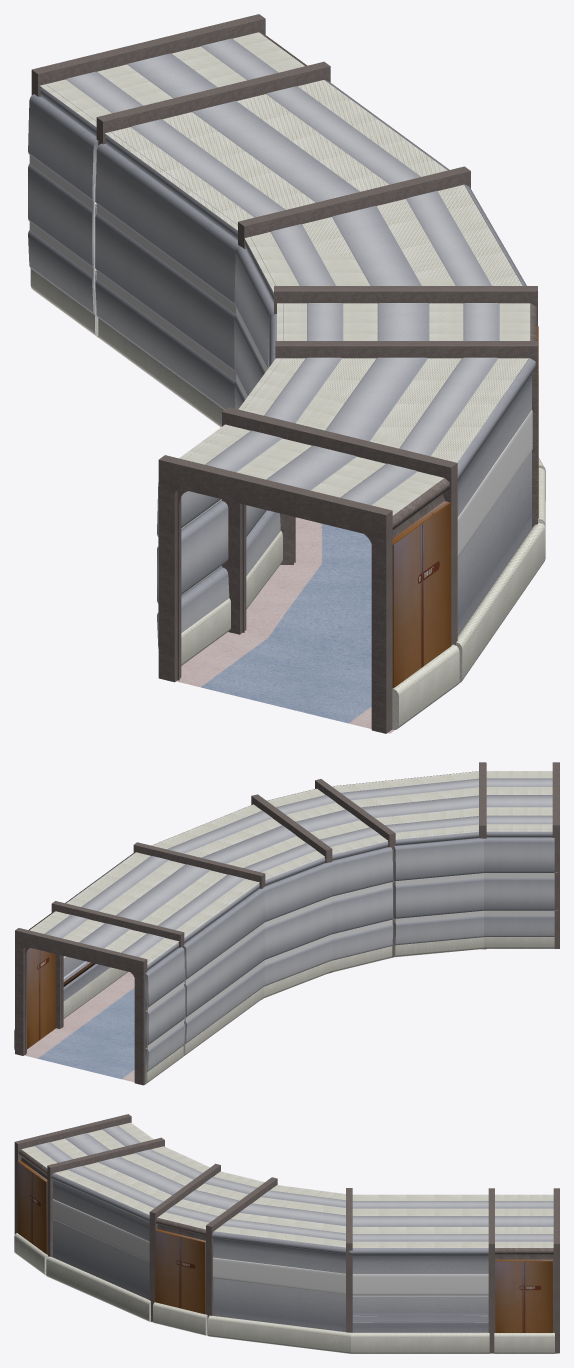
File: Corridor 1.FBX
3 views of the same model, one above another, from view 1: azimuth 30°, elevation 25°; view 2: azimuth 150°, elevation 25°; view 3: azimuth 270°, elevation 25° (orthographic). The views are drawn at different scales.
Visible parts, largest first — view 1: Box275, Plane36, Plane54, Plane50, Plane52, Plane39, Plane51, ChamferBox71, Box273, ChamferBox70, Box255, ChamferBox57 (+49 smaller); view 2: Box195, Plane36, Plane50, Plane32, Plane39, ChamferBox94, Plane35, ChamferBox71, ChamferBox92, ChamferBox70, Box192, ChamferBox108 (+60 smaller); view 3: Plane42, Plane38, Plane52, Box192, Plane36, Box253, ChamferBox67, ChamferBox60, Plane39, Plane50, ChamferBox61, ChamferBox68 (+38 smaller).
Part boxes in pixels (box(x1,y1,x2,y2)): Box275: box(158, 455, 392, 733); Plane36: box(105, 80, 447, 230); Plane54: box(176, 631, 394, 733); Plane50: box(238, 358, 528, 462); Plane52: box(457, 358, 535, 635); Plane39: box(245, 184, 522, 292); Plane51: box(245, 564, 371, 661); ChamferBox71: box(95, 143, 238, 304); Box273: box(392, 501, 451, 688); ChamferBox70: box(95, 213, 235, 371); Box255: box(275, 341, 537, 564); ChamferBox57: box(192, 101, 359, 202); Box195: box(15, 928, 147, 1085); Plane36: box(66, 852, 259, 937); Plane50: box(332, 771, 478, 839); Plane32: box(24, 1027, 183, 1084); Plane39: box(152, 804, 324, 879); ChamferBox94: box(394, 838, 483, 881); Plane35: box(63, 971, 260, 1056); ChamferBox71: box(183, 888, 265, 979); ChamferBox92: box(394, 878, 483, 918); ChamferBox70: box(184, 927, 265, 1017); Box192: box(27, 948, 55, 1049); ChamferBox108: box(484, 837, 557, 872); Plane42: box(212, 1231, 350, 1331); Plane38: box(351, 1248, 488, 1332); Plane52: box(51, 1173, 149, 1299); Box192: box(495, 1259, 552, 1332); Plane36: box(352, 1194, 488, 1247); Box253: box(155, 1229, 205, 1314); ChamferBox67: box(207, 1315, 350, 1353); ChamferBox60: box(351, 1332, 492, 1353); Plane39: box(214, 1185, 345, 1247); Plane50: box(55, 1146, 209, 1214); ChamferBox61: box(352, 1274, 488, 1294); ChamferBox68: box(213, 1257, 345, 1294).
Bounding box in the file's own units: 23.53 × 9.13 × 41.29.
